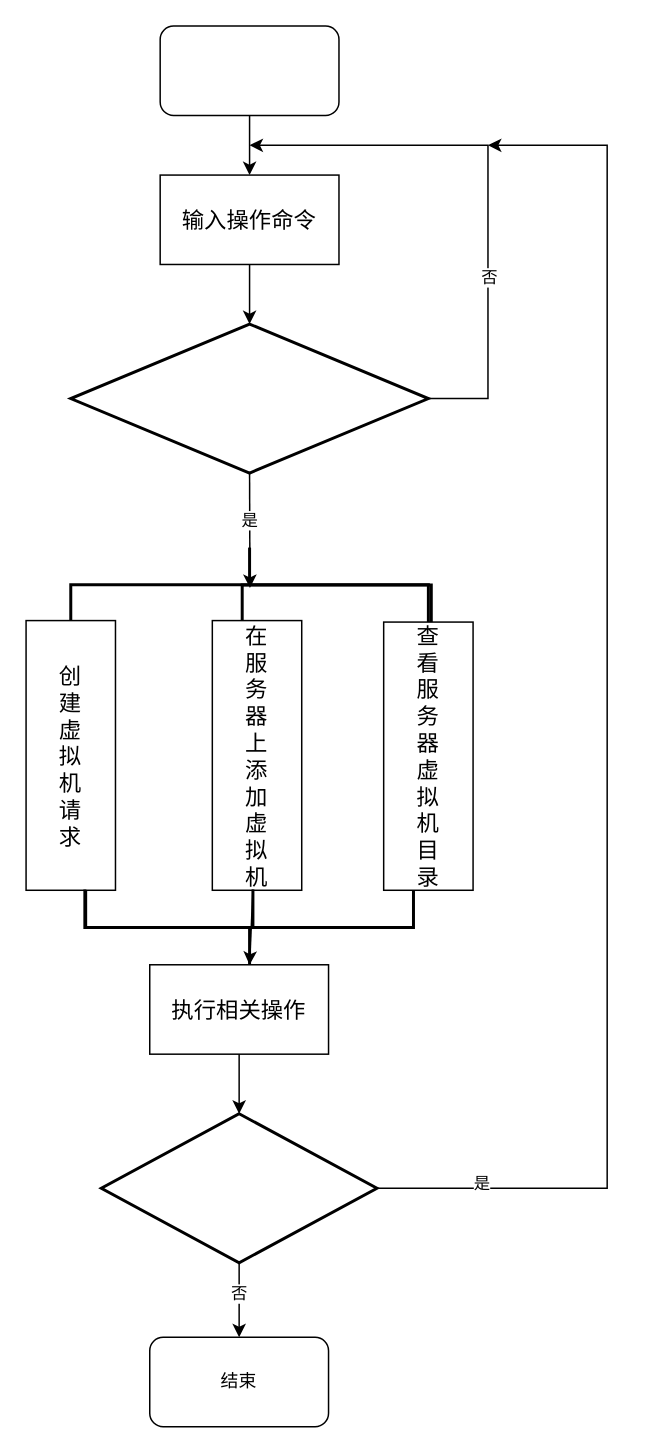
Some shapes in this 645 by 1453 pixel diagram are drawn without their labels. The shapes that lost their labels are listed below. From the top down, each one's box as (x1, y1, x2, y2) in pixels, then its label:
(159, 25, 339, 115): 开始
(69, 322, 429, 474): 命令是否正确
(99, 1112, 378, 1264): 是否继续
